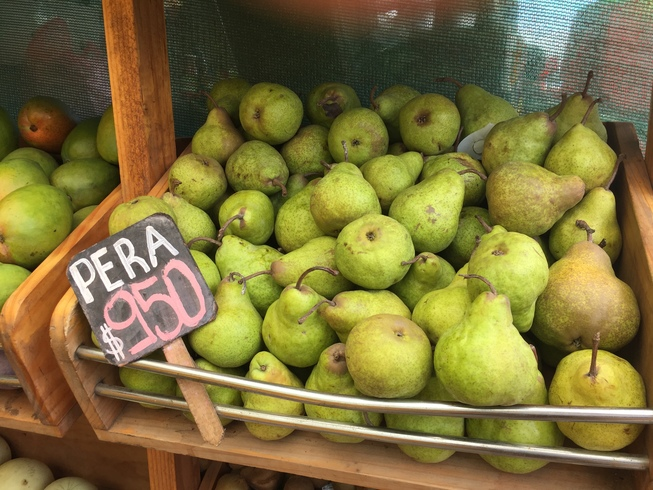precio: (69, 217, 213, 363)
